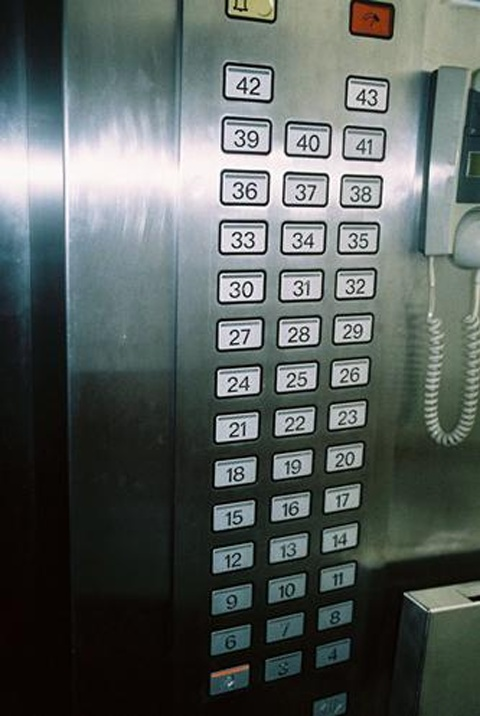10: (265, 572, 306, 605)
11: (317, 558, 356, 594)
12: (209, 540, 255, 576)
13: (265, 530, 311, 566)
14: (318, 520, 360, 556)
15: (210, 498, 257, 533)
16: (266, 490, 312, 524)
17: (320, 481, 361, 516)
18: (210, 455, 257, 490)
19: (268, 447, 315, 482)
2: (209, 664, 249, 695)
20: (323, 440, 365, 475)
21: (212, 408, 261, 446)
22: (271, 403, 317, 439)
23: (324, 397, 370, 433)
24: (213, 363, 262, 401)
25: (273, 360, 319, 395)
26: (327, 356, 372, 390)
27: (215, 316, 264, 354)
28: (274, 313, 323, 351)
29: (330, 311, 374, 347)
3: (263, 650, 303, 681)
30: (216, 268, 266, 306)
31: (277, 267, 325, 305)
32: (331, 266, 378, 303)
33: (217, 218, 269, 257)
34: (278, 219, 327, 257)
35: (335, 220, 380, 257)
36: (217, 167, 271, 208)
37: (281, 170, 330, 209)
38: (338, 173, 383, 211)
39: (218, 114, 272, 158)
4: (313, 638, 351, 668)
40: (281, 119, 334, 161)
41: (340, 123, 387, 163)
42: (220, 58, 276, 105)
43: (340, 72, 392, 115)
6: (208, 623, 251, 656)
7: (264, 612, 305, 643)
8: (314, 600, 355, 631)
9: (208, 581, 254, 617)
call: (344, 1, 398, 43)
open: (312, 692, 348, 716)
